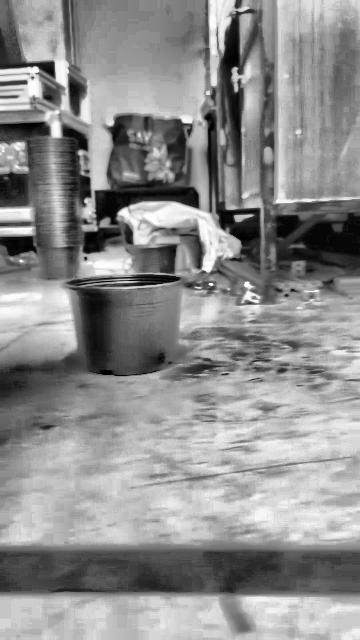pot: (63, 274, 186, 375), (127, 243, 177, 274)
